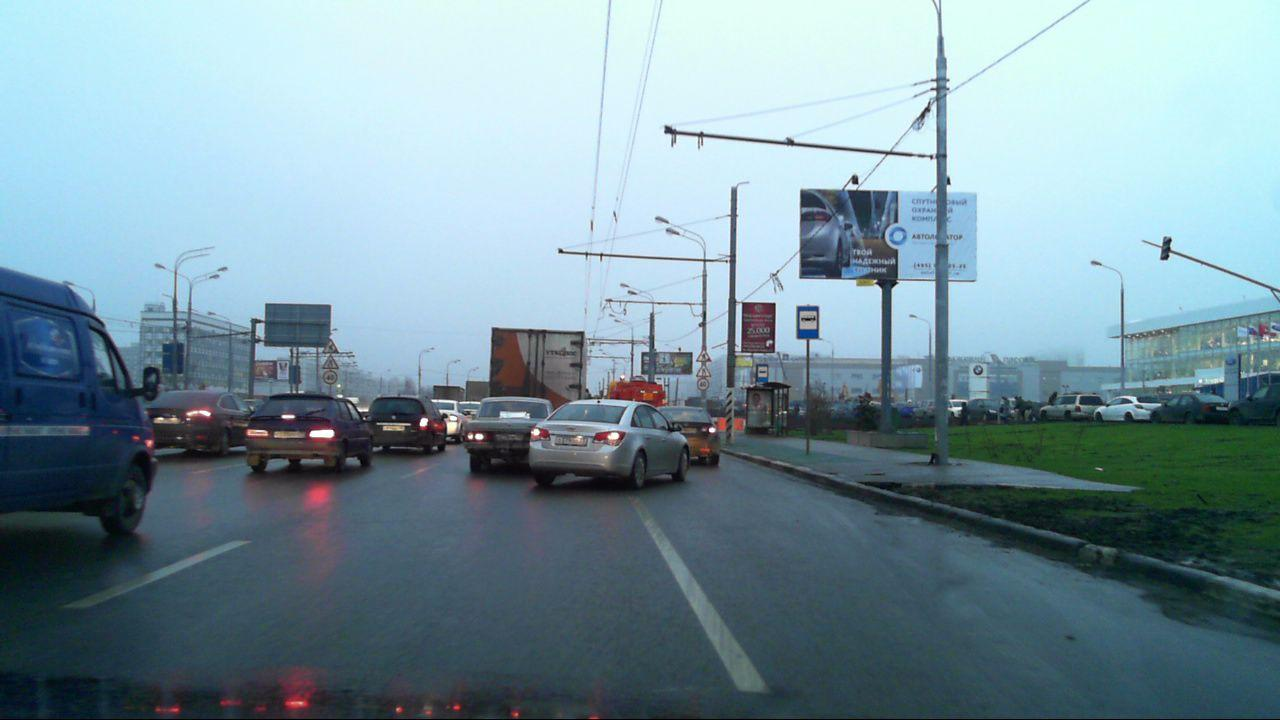off traffic light: (1156, 233, 1174, 263)
road_sign: (797, 306, 819, 339), (694, 345, 715, 363), (322, 336, 341, 355), (756, 362, 770, 385), (322, 353, 341, 369), (694, 363, 713, 377), (323, 370, 340, 384), (697, 378, 710, 391)
